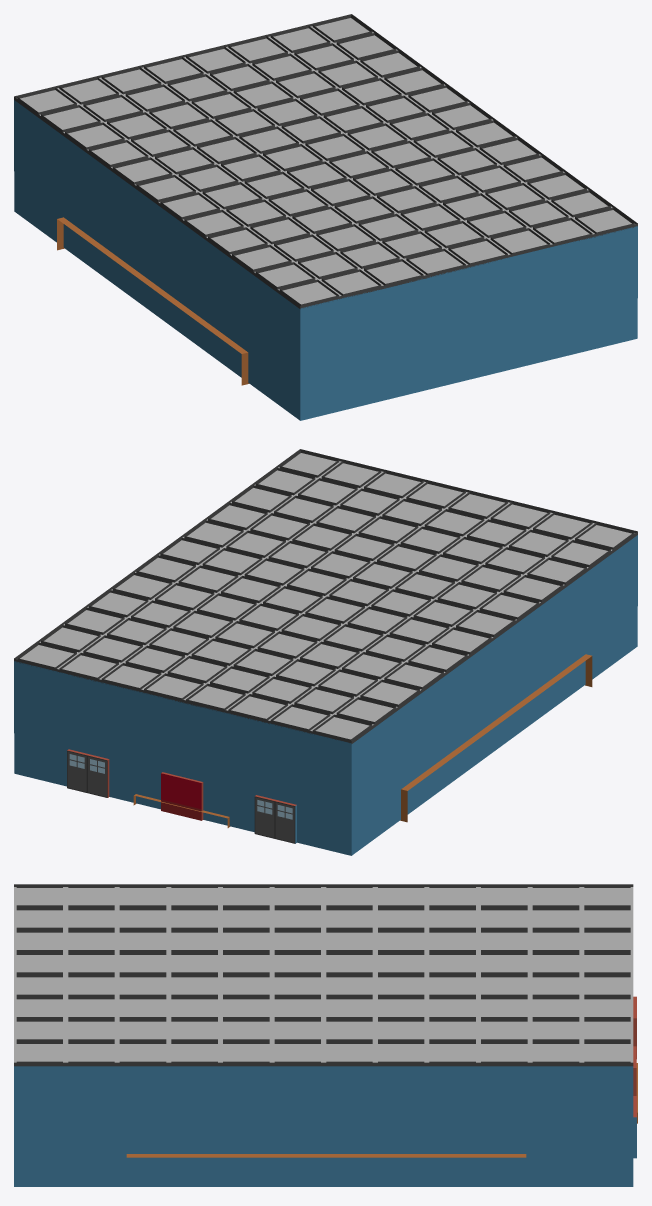
The model's file is Sports Hall.fbx.
3 renders of one model, top to bottom at view 1: azimuth 30°, elevation 25°; view 2: azimuth 150°, elevation 25°; view 3: azimuth 270°, elevation 25°, orthographic. The views are drawn at different scales.
Visible parts, largest first — view 1: Sports hall.002; view 2: Sports hall.002; view 3: Sports hall.002.
Boxes of the visible parts, x1,y1,x2,y2 form: Sports hall.002: (14,14,637,420); Sports hall.002: (14,449,637,855); Sports hall.002: (14,884,637,1186).
Bounding box in the file's own units: 2328 × 737 × 3316.
